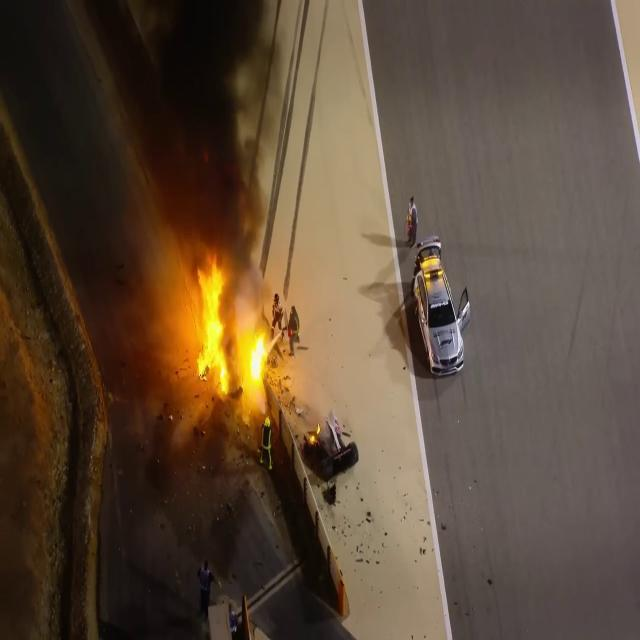Fire: (186, 252, 273, 404), (243, 326, 270, 398)
Smoke: (130, 1, 276, 276)
